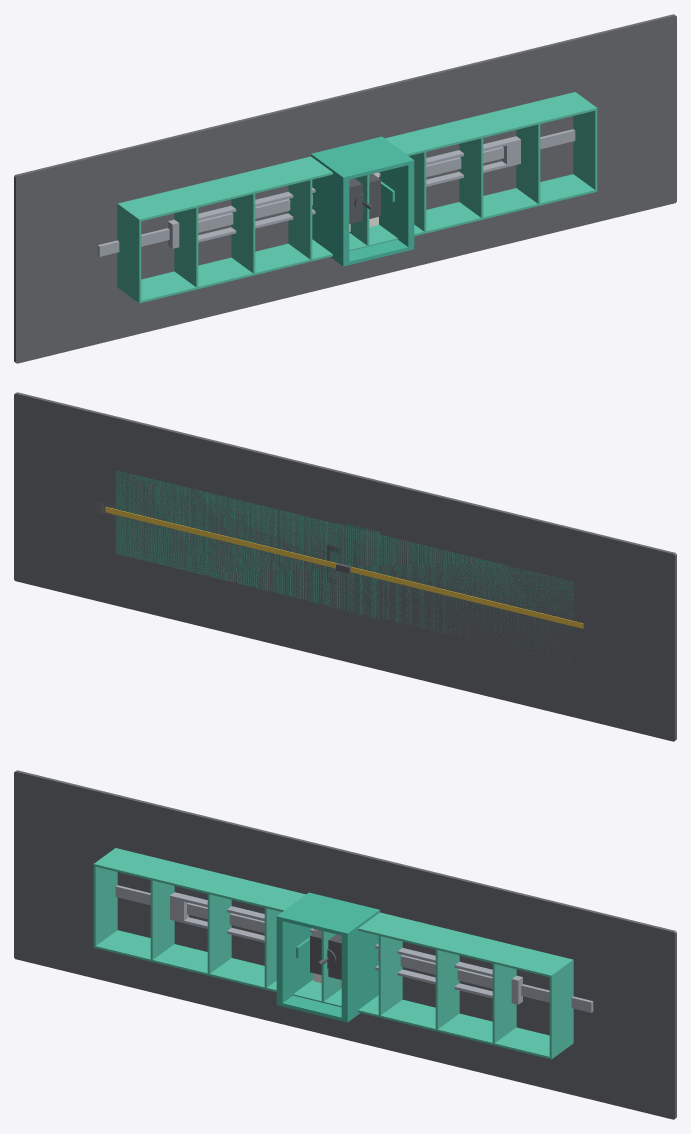
The model's file is assembly.glb.
3 renders of one model, top to bottom at view 1: azimuth 30°, elevation 25°; view 2: azimuth 150°, elevation 25°; view 3: azimuth 330°, elevation 25°, orthographic.
Parts seen in each view (by area): view 1: base, bins, feeder, recombine_bridge, sel_rail, sel_motor, output; view 2: base, bins, sel_belt, feeder; view 3: base, bins, feeder, recombine_bridge, sel_rail, sel_motor, output.
Boxes of the visible parts, box(x1,y1,x2,y2) form: base: box(14, 14, 676, 363); bins: box(117, 92, 597, 303); feeder: box(311, 136, 414, 266); recombine_bridge: box(168, 136, 520, 248); sel_rail: box(97, 129, 575, 256); sel_motor: box(349, 174, 380, 223); output: box(313, 137, 388, 229); base: box(14, 392, 676, 741); bins: box(115, 470, 573, 660); sel_belt: box(105, 507, 583, 628); feeder: box(316, 519, 379, 619); base: box(14, 770, 676, 1119); bins: box(93, 848, 573, 1059); feeder: box(276, 892, 379, 1022); recombine_bridge: box(170, 892, 522, 1004); sel_rail: box(115, 885, 593, 1012); sel_motor: box(310, 930, 341, 979); output: box(302, 893, 377, 985).
Bounding box in the file's own units: 0.8005 × 0.217 × 0.076.
